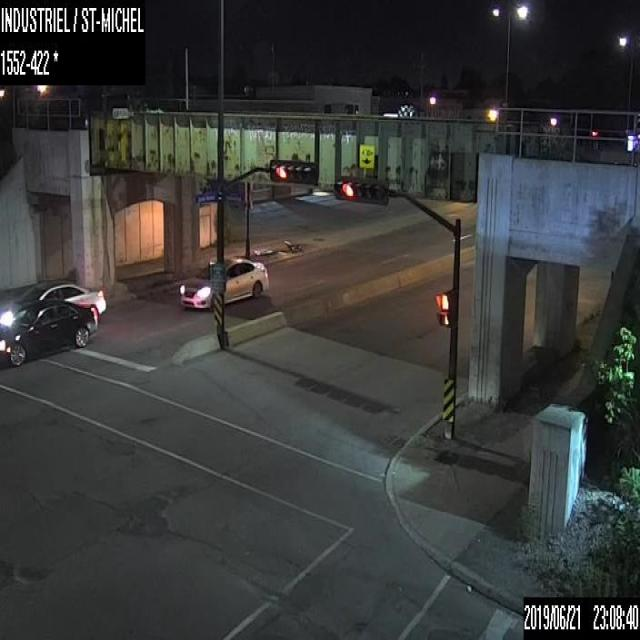vehicle: (0, 298, 97, 369), (0, 278, 105, 334), (175, 256, 268, 309)
